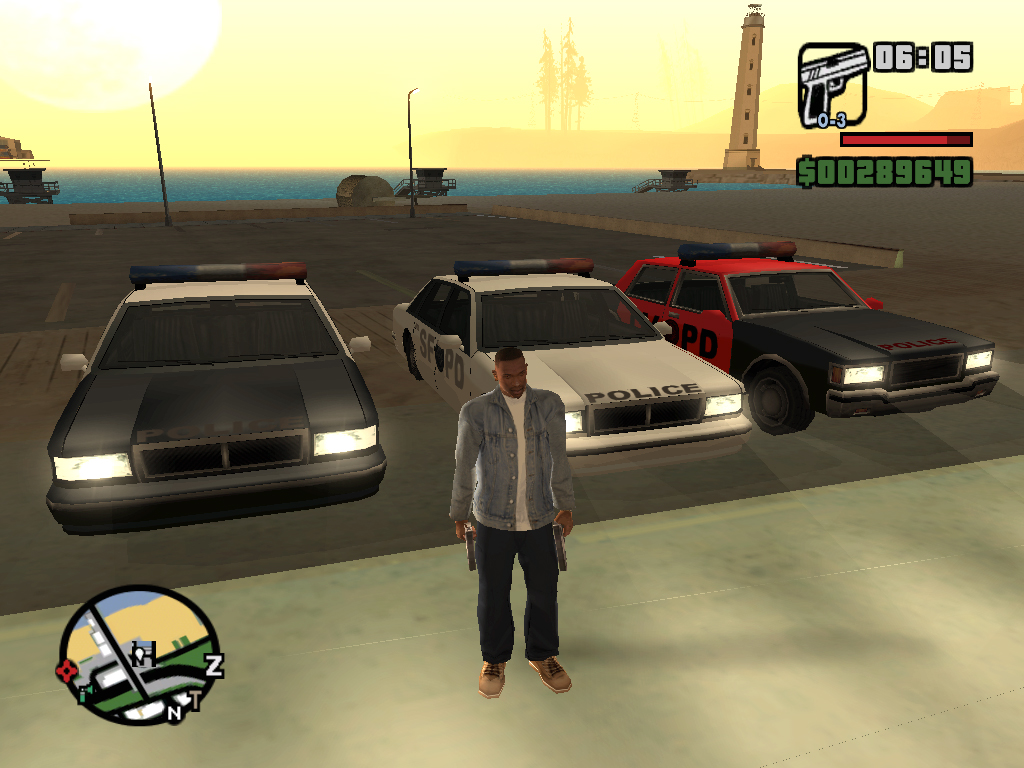car: (56, 264, 411, 527), (386, 255, 736, 471), (622, 241, 998, 434)
person: (442, 342, 592, 705)
